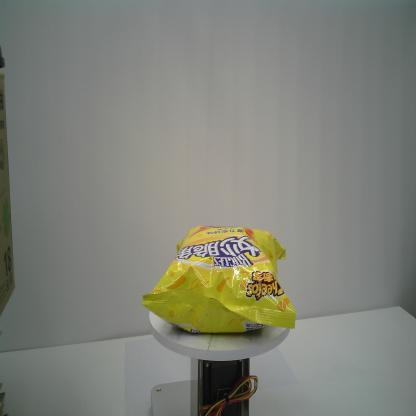Puffed Food: (142, 224, 296, 334)
